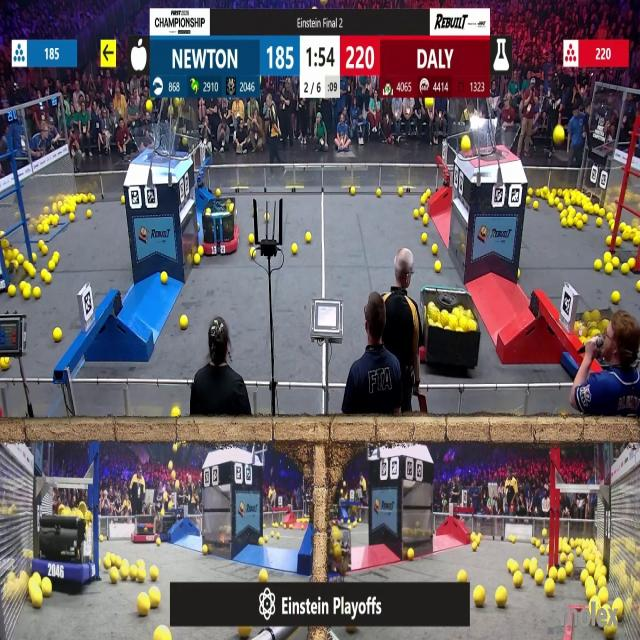ball_airborne: (555, 127, 566, 145), (460, 136, 470, 153), (146, 100, 152, 112), (165, 492, 170, 502), (169, 461, 174, 470), (175, 482, 180, 490), (172, 470, 176, 478), (168, 501, 172, 509)
ball_ground: (138, 595, 150, 616), (496, 587, 506, 608), (473, 587, 483, 608), (149, 590, 160, 608), (42, 579, 52, 598), (32, 590, 42, 608), (157, 627, 171, 639), (604, 625, 615, 640), (544, 581, 553, 598), (598, 590, 608, 604), (514, 571, 523, 586), (137, 568, 146, 582), (110, 568, 118, 583), (0, 357, 9, 370), (258, 568, 267, 581), (535, 570, 543, 584), (587, 586, 595, 600), (458, 570, 467, 582), (54, 328, 62, 341), (149, 567, 157, 580), (558, 569, 566, 582), (120, 566, 128, 579), (23, 288, 31, 300), (506, 560, 514, 572), (180, 316, 187, 329), (594, 261, 602, 272), (611, 291, 619, 302), (172, 408, 180, 419), (622, 265, 630, 276), (546, 567, 554, 578), (434, 262, 441, 274), (162, 272, 169, 284), (8, 285, 15, 297), (605, 264, 612, 276), (524, 560, 531, 572), (613, 258, 620, 270), (565, 563, 572, 575), (598, 576, 606, 586), (34, 287, 41, 298), (408, 550, 415, 561), (579, 571, 586, 582), (132, 566, 138, 578), (630, 259, 636, 271), (604, 252, 611, 262), (29, 269, 36, 279), (413, 209, 420, 219), (530, 558, 537, 568), (292, 244, 298, 255), (431, 244, 437, 255), (55, 252, 61, 263), (560, 554, 567, 563), (61, 206, 68, 215), (193, 254, 199, 264), (422, 214, 428, 224), (422, 234, 428, 244), (547, 198, 553, 208), (42, 271, 48, 281), (634, 237, 640, 247), (104, 559, 110, 569), (19, 282, 25, 292), (594, 205, 600, 215), (524, 198, 532, 205), (249, 234, 254, 245), (635, 280, 640, 291), (576, 220, 582, 229), (199, 247, 205, 256), (596, 217, 602, 226), (561, 218, 567, 227), (568, 207, 574, 216), (204, 543, 209, 553), (307, 234, 312, 244), (48, 264, 54, 272), (617, 238, 623, 246), (420, 207, 426, 215), (533, 202, 539, 210), (350, 187, 356, 195), (138, 560, 144, 568), (43, 224, 49, 232), (558, 203, 564, 211), (38, 241, 44, 249), (534, 188, 540, 196), (70, 213, 75, 222), (88, 210, 93, 219), (606, 237, 611, 246), (91, 193, 96, 202), (584, 214, 589, 223), (397, 188, 403, 195), (258, 537, 263, 545), (539, 545, 544, 553), (42, 247, 47, 255), (567, 218, 572, 226), (568, 554, 573, 562), (250, 248, 254, 257), (33, 253, 37, 262), (155, 538, 160, 545), (377, 189, 382, 196), (608, 219, 613, 226), (472, 542, 476, 550), (100, 534, 104, 542), (422, 198, 426, 206), (532, 537, 536, 545), (512, 536, 517, 542), (120, 198, 124, 205), (277, 535, 281, 542), (528, 188, 532, 195), (266, 535, 269, 543)
goal: (465, 122, 521, 160), (130, 127, 188, 160)
robot_blue: (35, 511, 99, 588), (152, 512, 178, 543), (342, 504, 362, 522)
robot_red: (416, 290, 479, 372), (200, 197, 239, 257), (132, 515, 157, 543)
